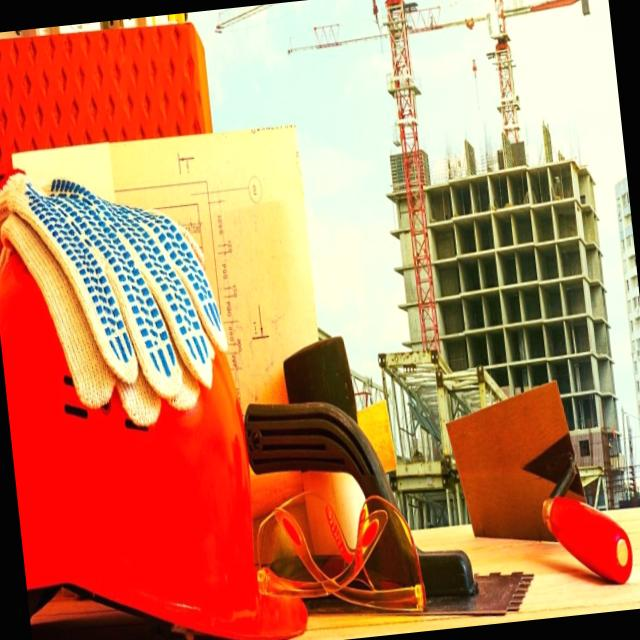goggles: (243, 466, 429, 640)
helmet: (0, 214, 313, 640)
